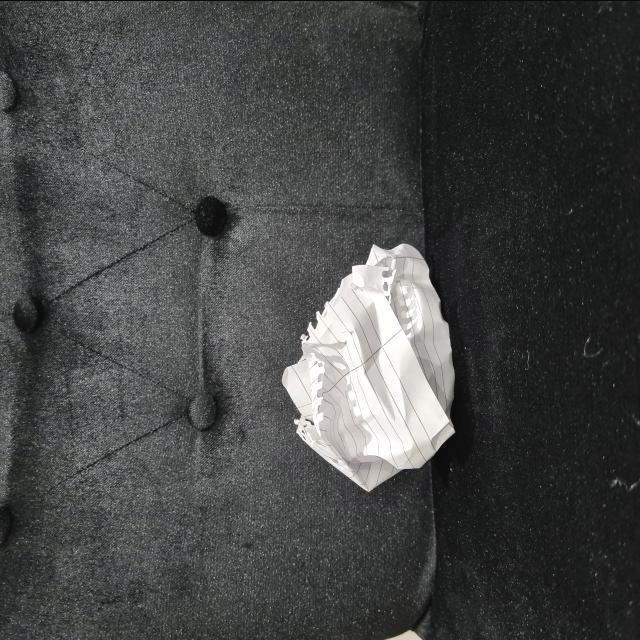Paper: (216, 190, 496, 529)
